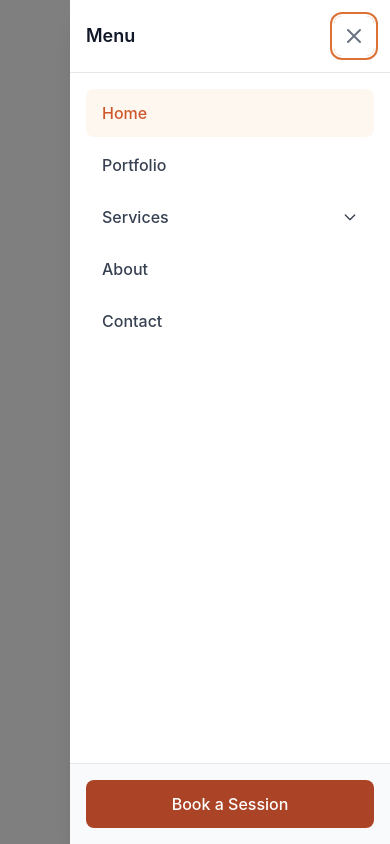
MobileMenu › expands services accordion and renders child links
This screenshot has width=390, height=844.
Click the button "Services" at (135, 217), box [86,193,374,241]
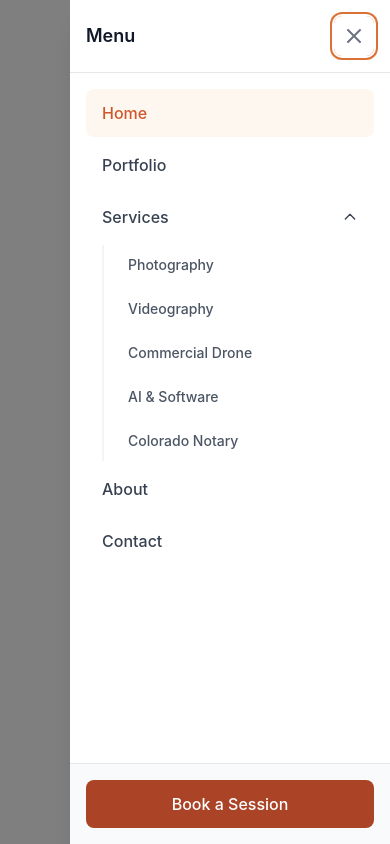
Expected: the button "Services" is expanded, [86,193,374,241]
Expected: the link "Photography" is shown, [128,256,214,273]
Expected: the link "Videography" is shown, [128,300,214,317]
